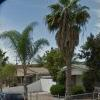Tree: (39, 0, 100, 71)
